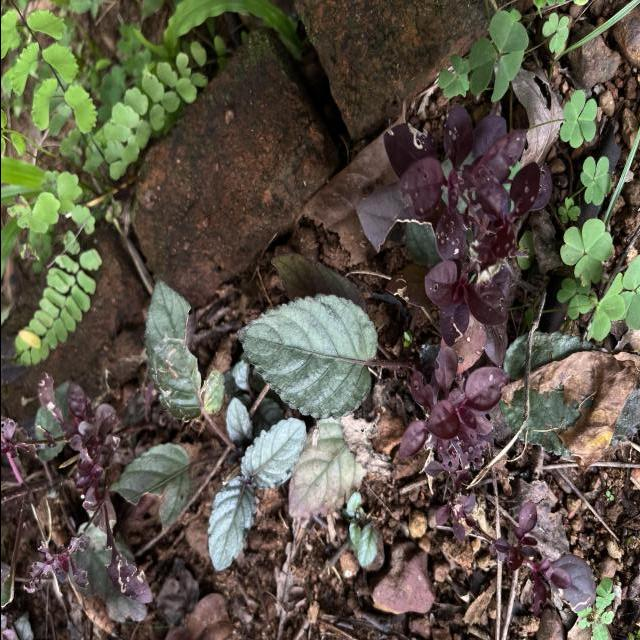Hemigraphis colorata: (231, 288, 380, 424), (234, 416, 308, 494), (204, 471, 258, 575)
